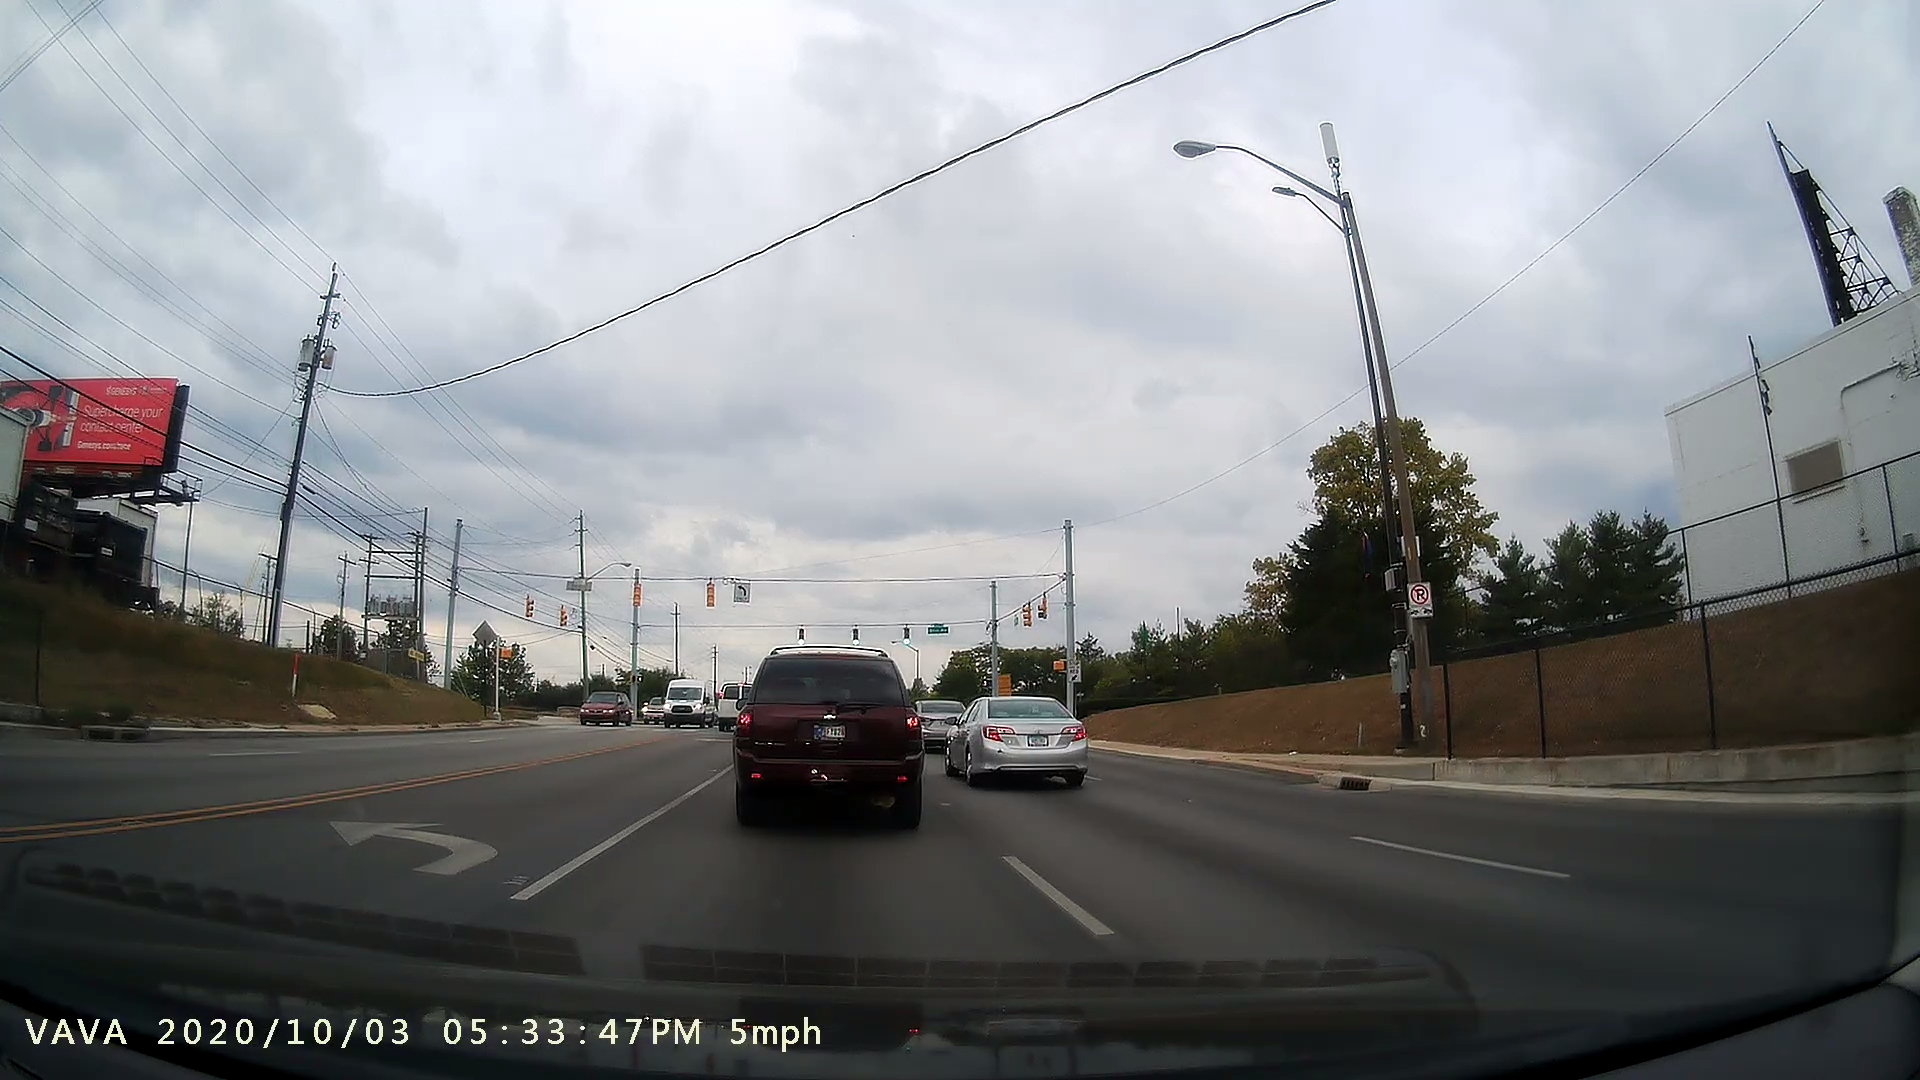left_turn: (303, 800, 508, 893)
